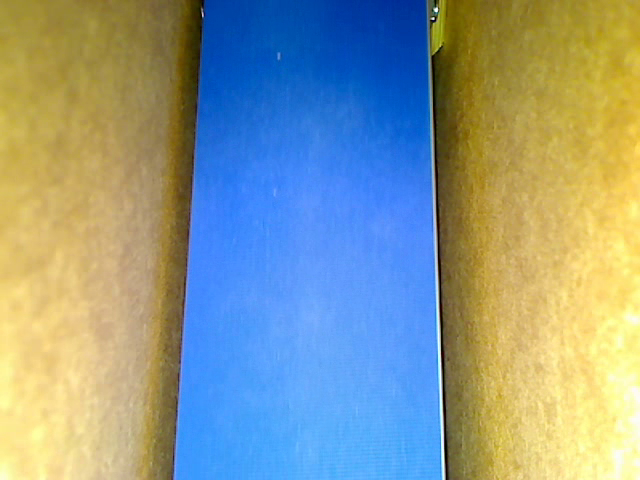penne: (429, 1, 448, 54)
